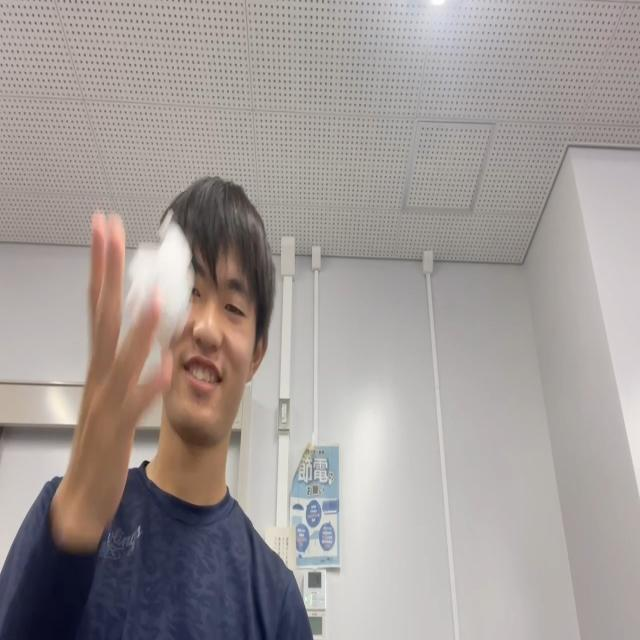paper: (121, 215, 195, 354)
